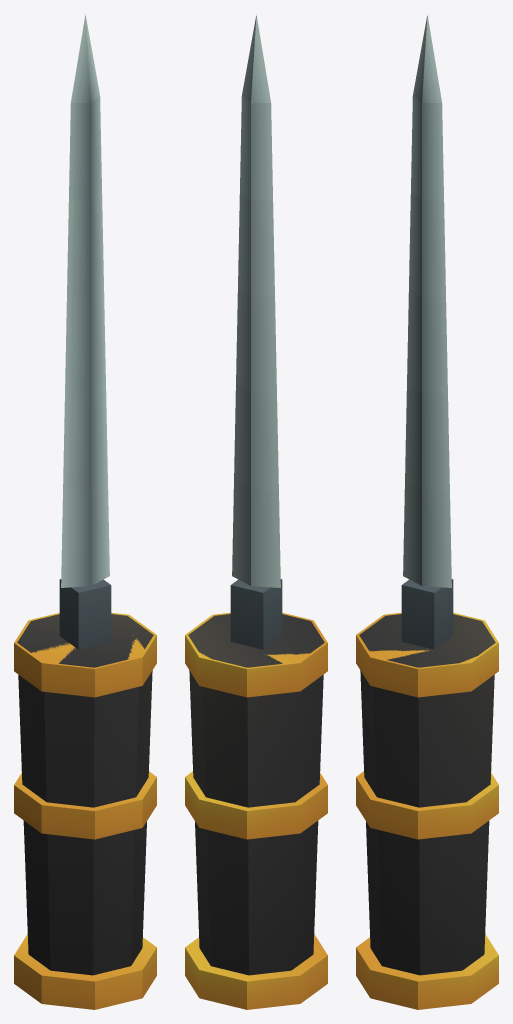
Rendered from hidden_blade.fbx.
3 renders of one model, left to right at view 1: azimuth 30°, elevation 25°; view 2: azimuth 150°, elevation 25°; view 3: azimuth 330°, elevation 25°, orthographic.
Parts seen in each view (by area): view 1: hidden_blade; view 2: hidden_blade; view 3: hidden_blade.
Boxes of the visible parts, bbox=[...] form: hidden_blade: bbox=[14, 14, 156, 1009]; hidden_blade: bbox=[185, 14, 327, 1009]; hidden_blade: bbox=[356, 14, 498, 1009].
Bounding box in the file's own units: 8.5 × 68 × 8.5.
